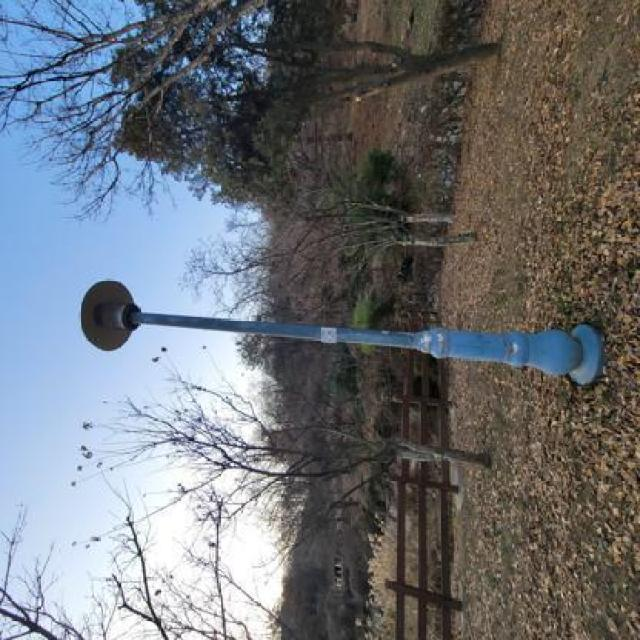pole: (77, 271, 611, 398)
